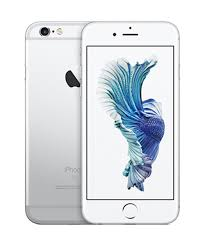iphone: (78, 19, 179, 227)
iphone6: (79, 19, 180, 227)
